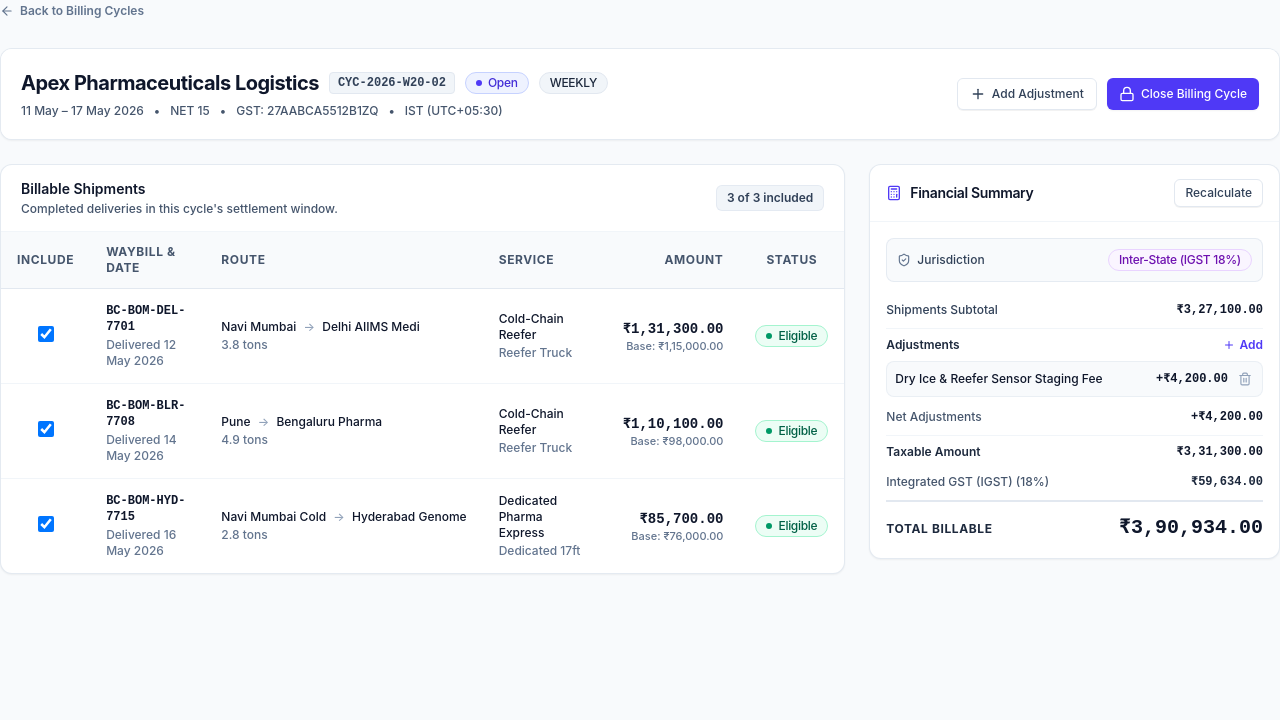
Scenario: CycleDetailPage Component Interaction › renders cycle details, shipments table, and opens the close confirmation modal
expect the text "CYC-2026-W20-02" is shown: met, box [329,72,455,94]
expect the heading "Apex Pharmaceuticals Logistics" is shown: met, box [21,69,319,97]
Click the button "Close Billing Cycle".
click(1183, 94)  # box [1107,78,1259,110]
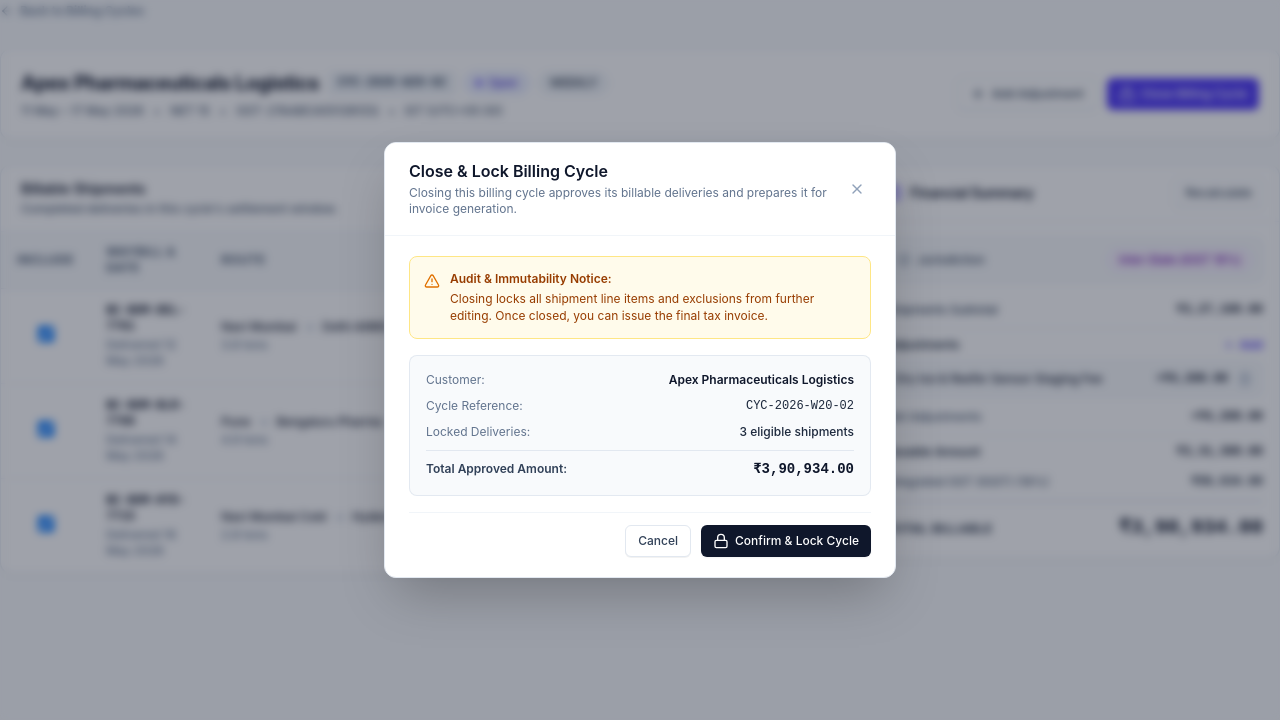
expect the heading "Close & Lock Billing Cycle" is shown: met, box [409,161,608,181]
expect the text "Audit & Immutability Notice:" is shown: met, box [450,271,612,286]
expect the button "Confirm & Lock Cycle" is shown: met, box [701,525,871,557]
